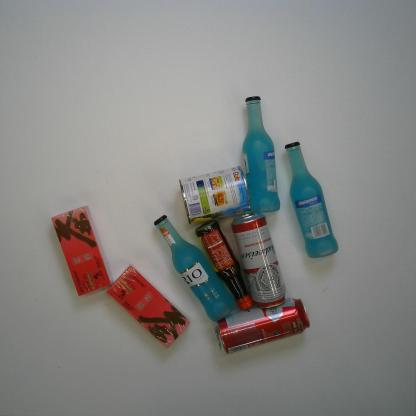Alcohol: (150, 213, 236, 323), (282, 140, 338, 260), (212, 296, 312, 356), (229, 209, 287, 309), (239, 94, 281, 215)
Canned Food: (178, 163, 251, 227)
Instant Drink: (106, 264, 192, 350), (50, 202, 116, 298)
Seasoner: (194, 220, 254, 312)
